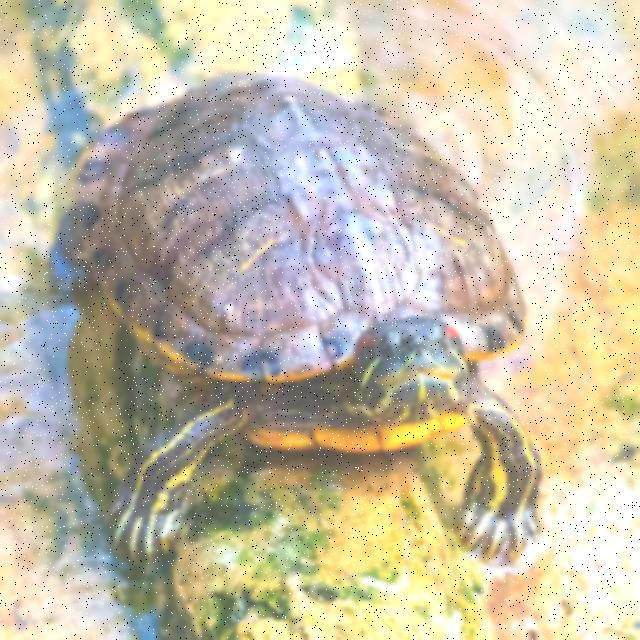tortoise: (60, 70, 540, 556)
